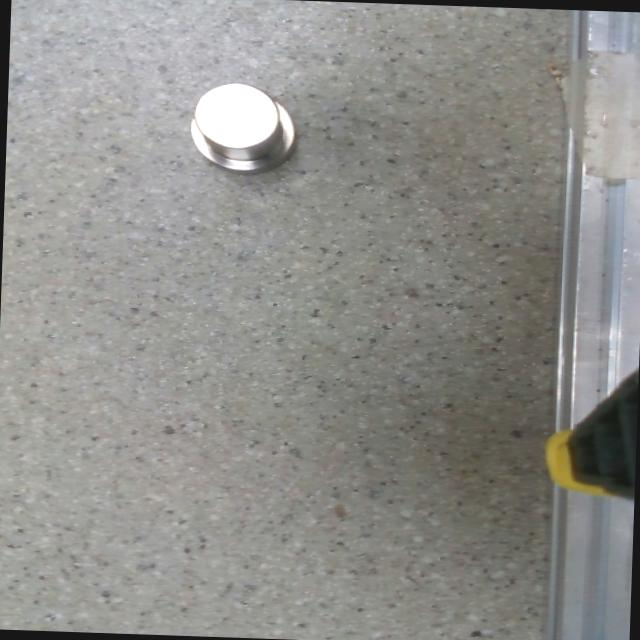sensor: (186, 80, 296, 176)
